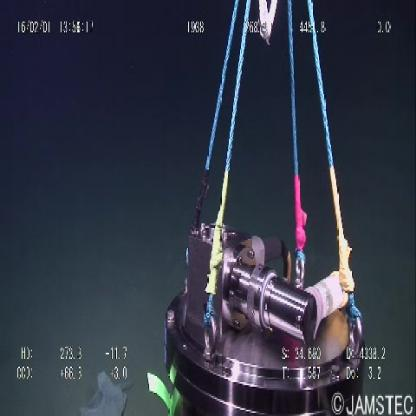Rov: (144, 1, 369, 414)
Rác: (81, 370, 137, 416)
